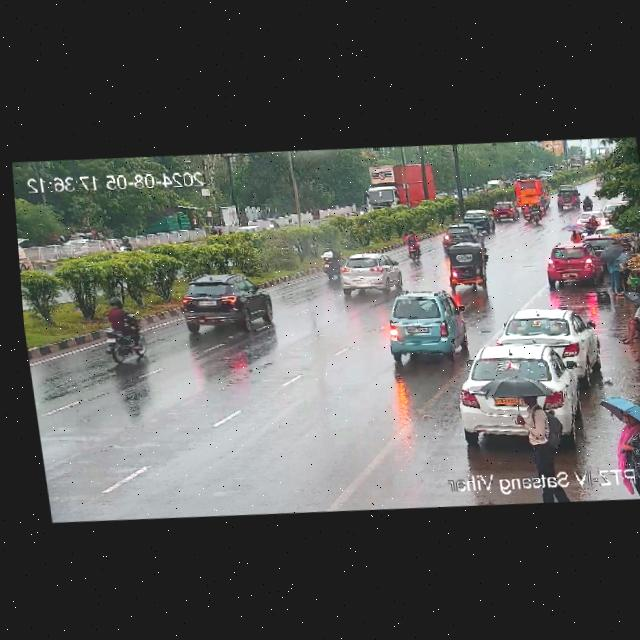bus: (507, 176, 552, 212)
car: (451, 340, 590, 450), (494, 302, 602, 391), (374, 286, 473, 367), (175, 269, 277, 337), (332, 248, 405, 296), (541, 242, 606, 286), (438, 240, 488, 290), (440, 222, 485, 254), (458, 207, 494, 237), (552, 186, 582, 214), (490, 200, 519, 223)
motorcycle: (97, 297, 152, 364), (398, 229, 425, 263), (319, 243, 340, 282), (527, 200, 545, 226), (114, 232, 132, 254), (580, 193, 593, 211)
person: (483, 376, 561, 472), (593, 390, 640, 469), (600, 237, 639, 291), (609, 294, 640, 347), (567, 222, 584, 241)
truck: (360, 160, 440, 213)
